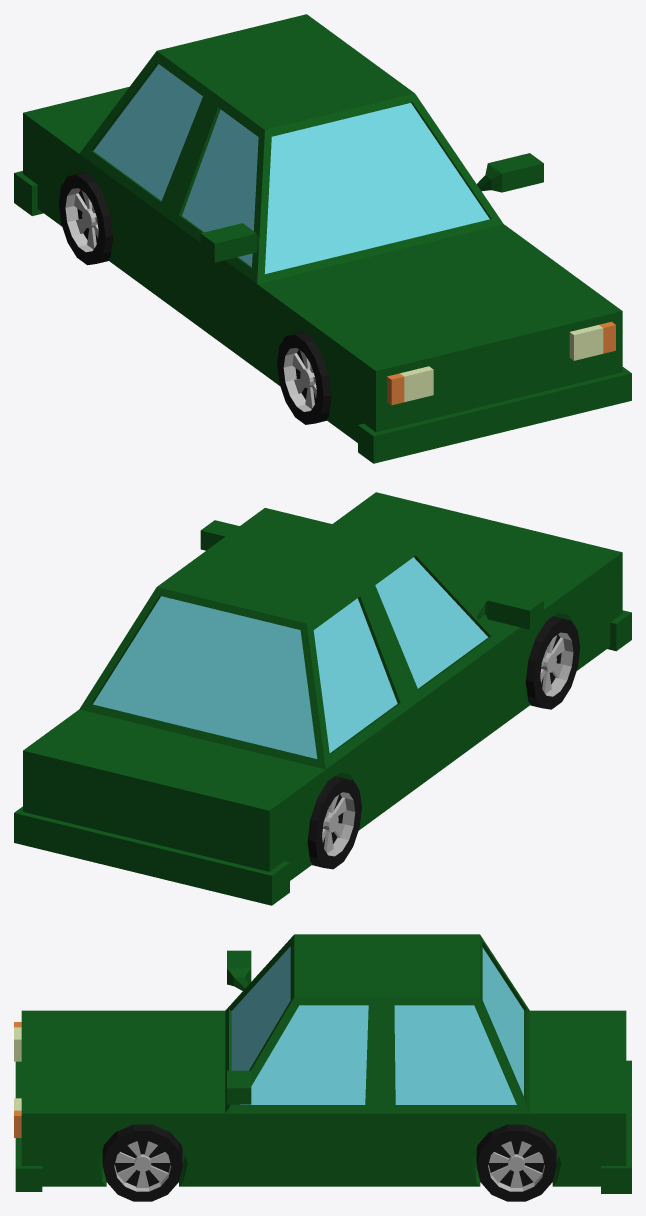
File: green car.fbx
3 renders of one model, top to bottom at view 1: azimuth 30°, elevation 25°; view 2: azimuth 150°, elevation 25°; view 3: azimuth 270°, elevation 25°, orthographic. The views are drawn at different scales.
Parts seen in each view (by area): view 1: Cube, Cylinder.001, Cylinder.003, Cube.002, Cube.001; view 2: Cube, Cylinder.001, Cylinder.003, Cube.002; view 3: Cube, Cylinder.003, Cylinder.001, Cube.002, Cube.001.
Part boxes in pixels (left/top/right/bottom): Cube: left=14, top=14, right=631, bottom=463; Cylinder.001: left=277, top=332, right=331, bottom=424; Cylinder.003: left=58, top=172, right=113, bottom=265; Cube.002: left=200, top=153, right=543, bottom=262; Cube.001: left=387, top=321, right=615, bottom=405; Cube: left=14, top=492, right=631, bottom=905; Cylinder.001: left=525, top=616, right=580, bottom=709; Cylinder.003: left=307, top=776, right=361, bottom=869; Cube.002: left=200, top=520, right=543, bottom=629; Cube: left=15, top=934, right=631, bottom=1193; Cylinder.003: left=476, top=1124, right=556, bottom=1201; Cylinder.001: left=102, top=1124, right=182, bottom=1201; Cube.002: left=227, top=950, right=251, bottom=1104; Cube.001: left=14, top=1022, right=21, bottom=1137.
Size of the model in its own units: 341 by 211 by 647.
